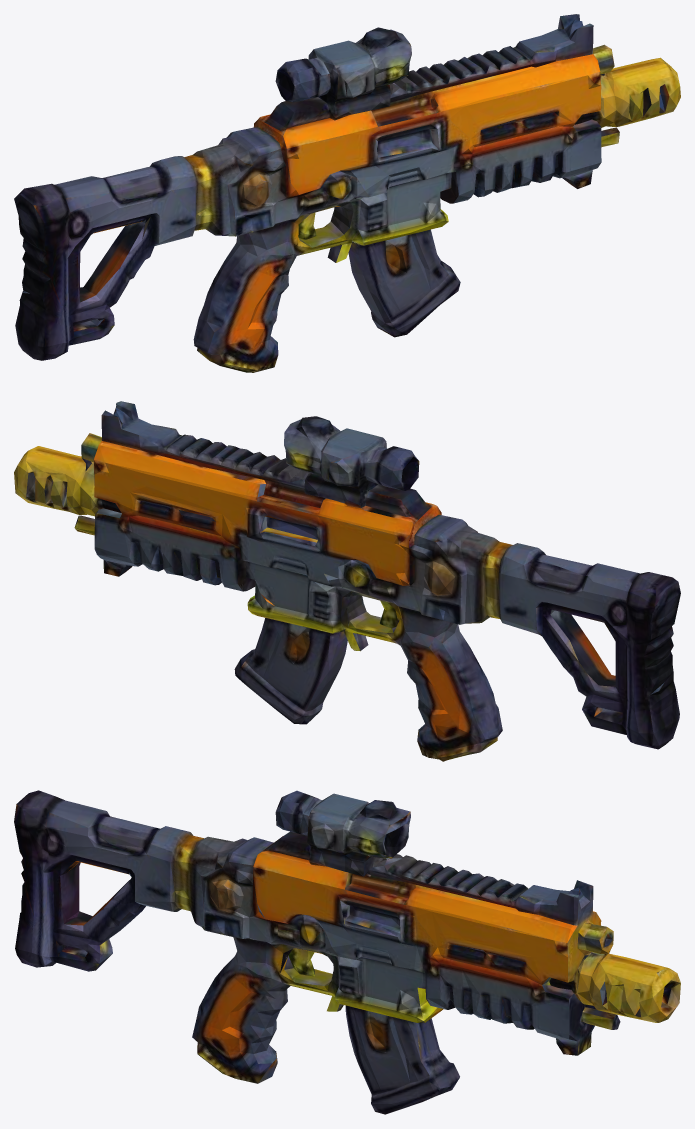
File: hk-w-autoch-bolter.glb
3 views of the same model, one above another, from view 1: azimuth 30°, elevation 25°; view 2: azimuth 150°, elevation 25°; view 3: azimuth 330°, elevation 25° (orthographic).
Parts seen in each view (by area): view 1: tmpo973p264.ply; view 2: tmpo973p264.ply; view 3: tmpo973p264.ply.
Boxes of the visible parts, left/top/right/bottom form: tmpo973p264.ply: left=14, top=14, right=680, bottom=372; tmpo973p264.ply: left=14, top=401, right=680, bottom=761; tmpo973p264.ply: left=14, top=790, right=680, bottom=1114.
Size of the model in its own units: 0.8 by 0.355 by 0.0814.
Materials: 1 (1 with a texture image).
